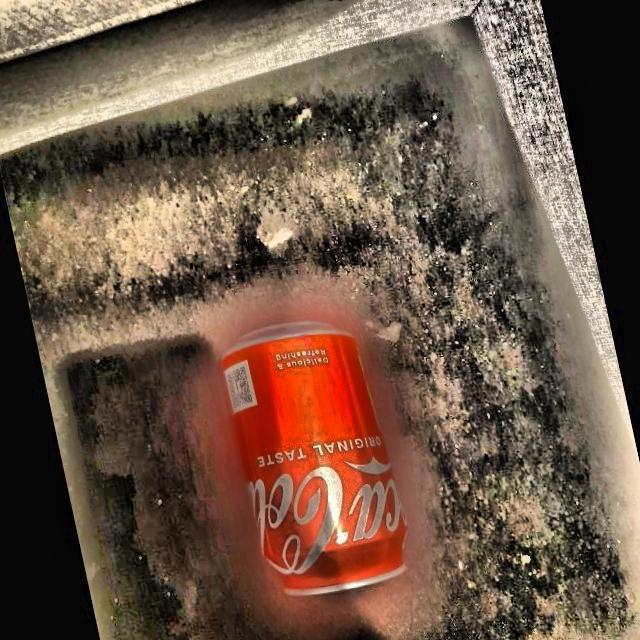coke-can: (228, 317, 408, 595)
